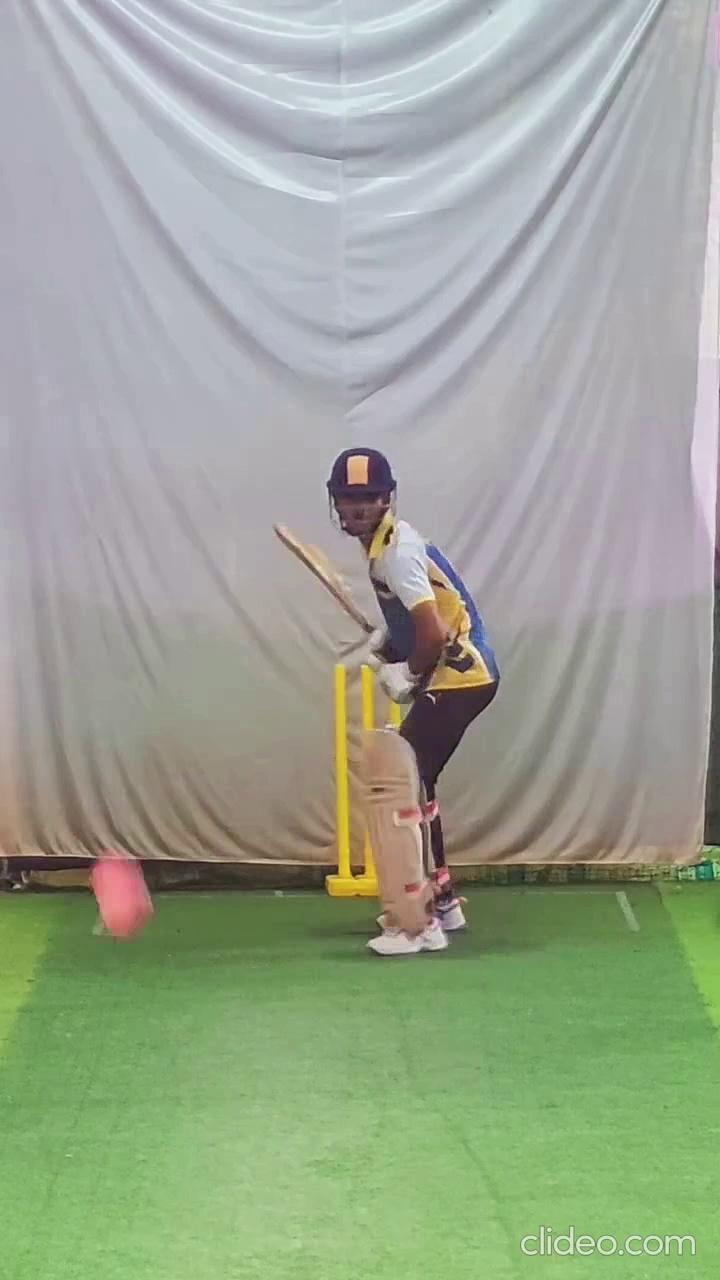bat: (263, 505, 381, 647)
